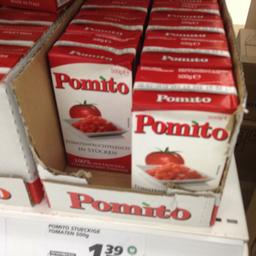tomato_sauce: (130, 64, 236, 195), (47, 31, 135, 174)
